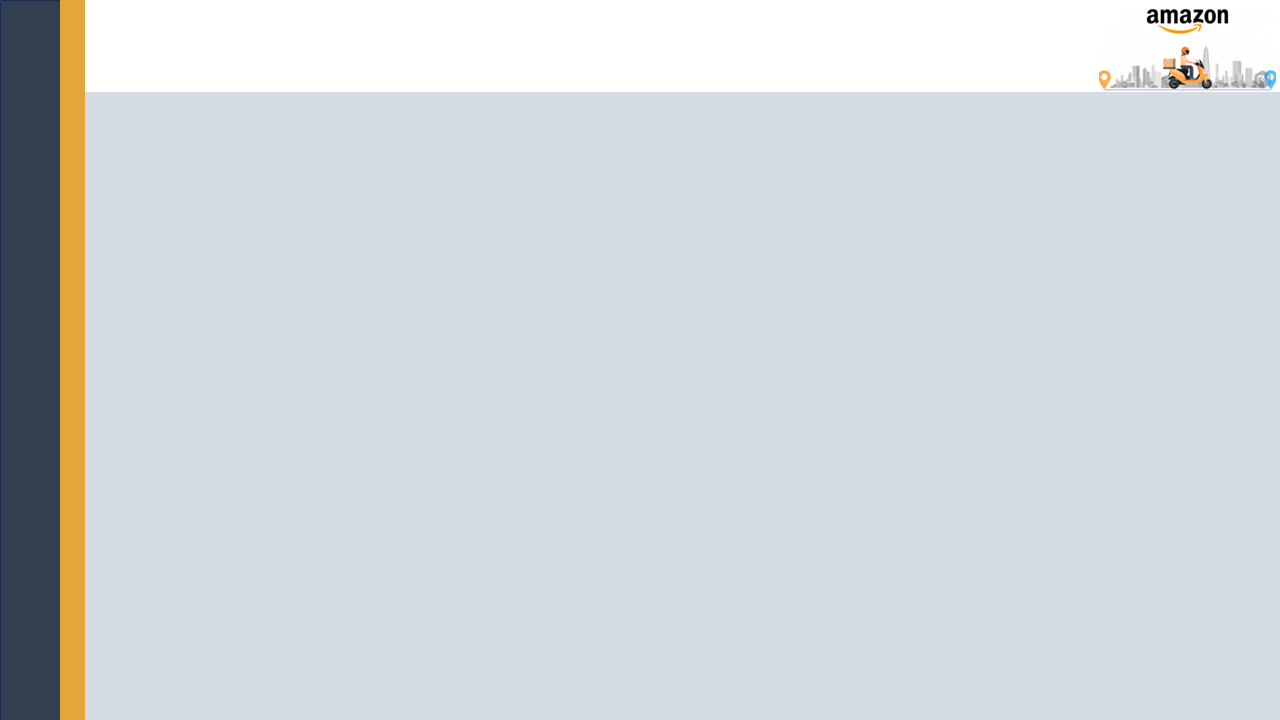

This screenshot's page, from the dashboard's own definition file:
{"tool":"powerbi","page":{"name":"Info","canvas":[1280,720],"ordinal":4},"visuals":[{"type":"actionButton","box":[0,0,56.8,48.4],"z":0}]}

Visuals, with their boxes in screenshot pixels (x1, y1, x2, y2), scaled from the page's 1280x720 canvas onto the 1280x720 screenshot:
actionButton: 0:0:57:48
